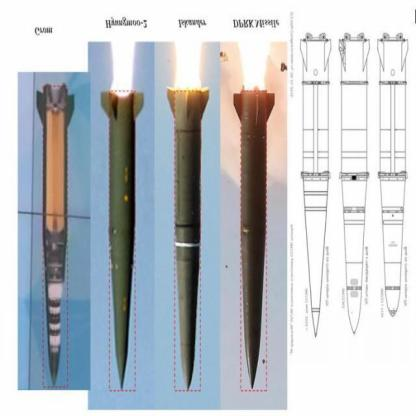MIL_TBM: (166, 74, 214, 405), (99, 72, 146, 392), (33, 78, 79, 387), (232, 83, 277, 390)
